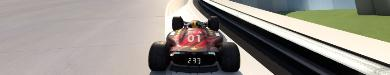Car: (147, 15, 240, 72)
Solid White and black: (197, 0, 389, 74)
